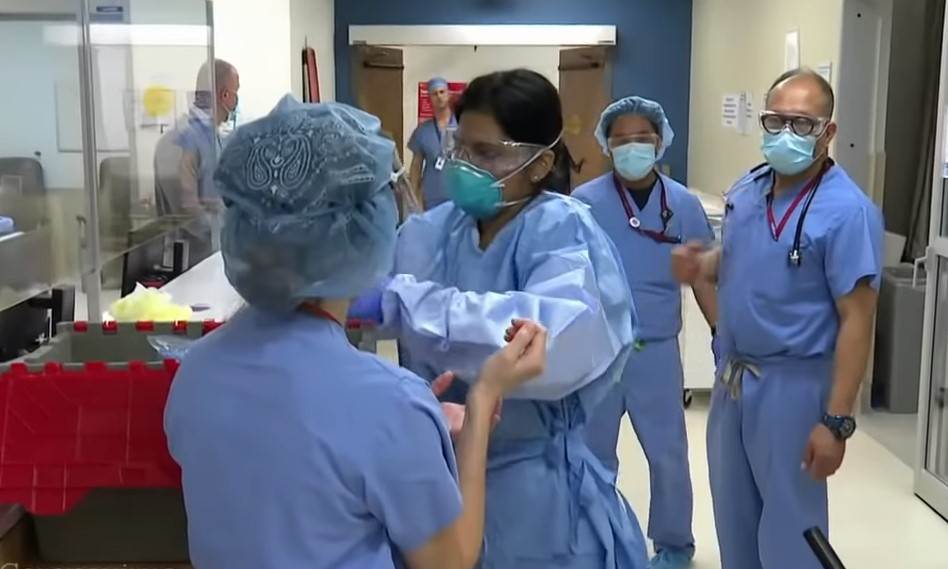face_with_mask: (441, 68, 558, 226), (754, 67, 835, 181), (593, 94, 674, 185), (199, 58, 241, 126)
